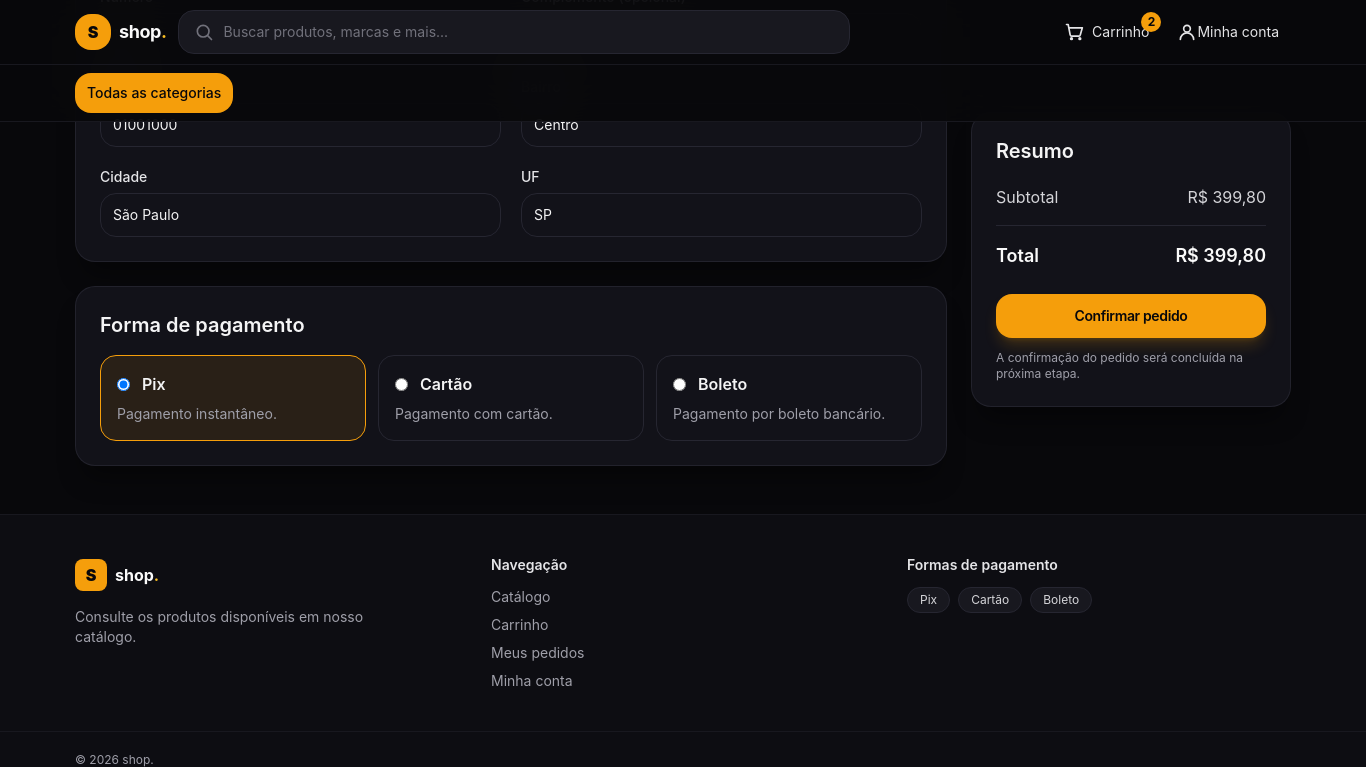
Scenario: TASK-115 checkout integration › posts strict confirmed contract once and applies exact 201 effects
(page scrolled)
Step 1. Click the radio button labelled "Pix" → (124,384), box [117,378,130,390]
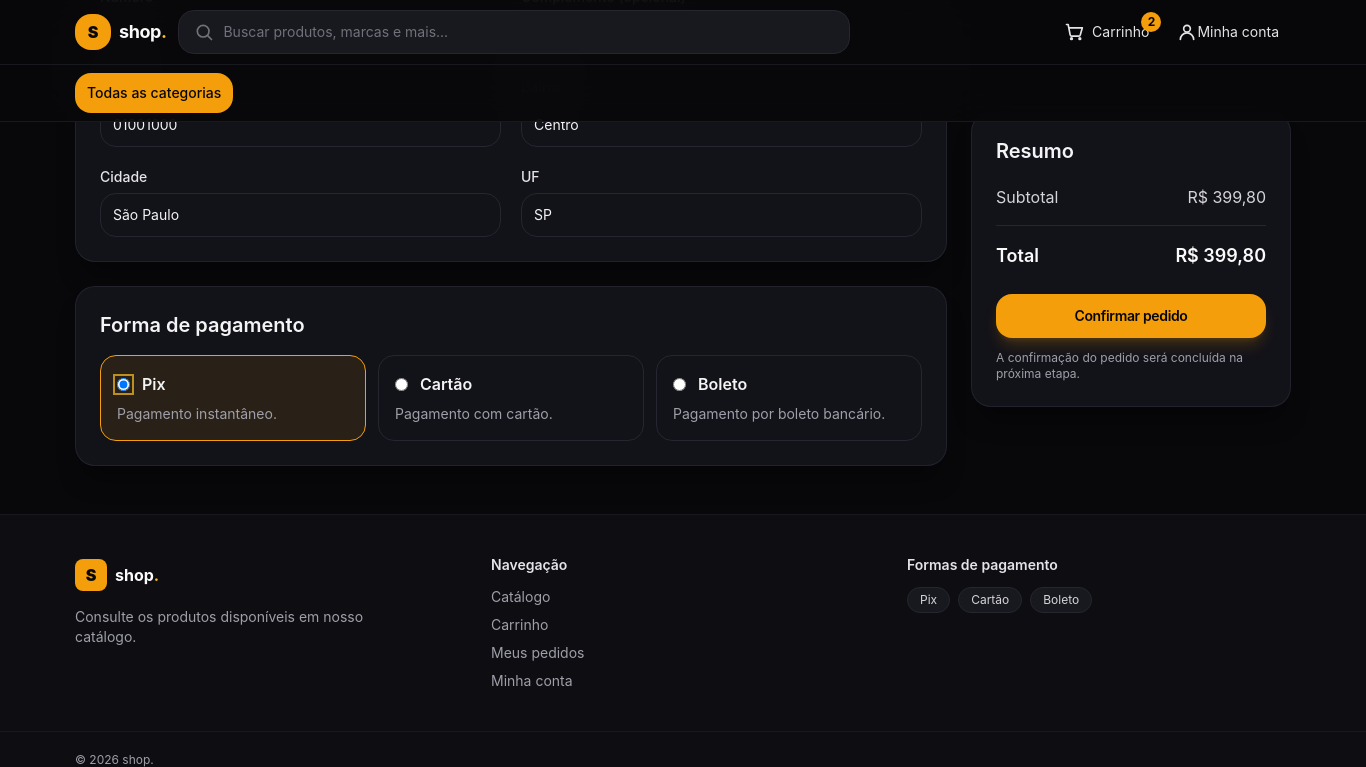
Step 2. Double-click the button "Confirmar pedido" → (1131,316), box [996,294,1266,338]
(page scrolled)
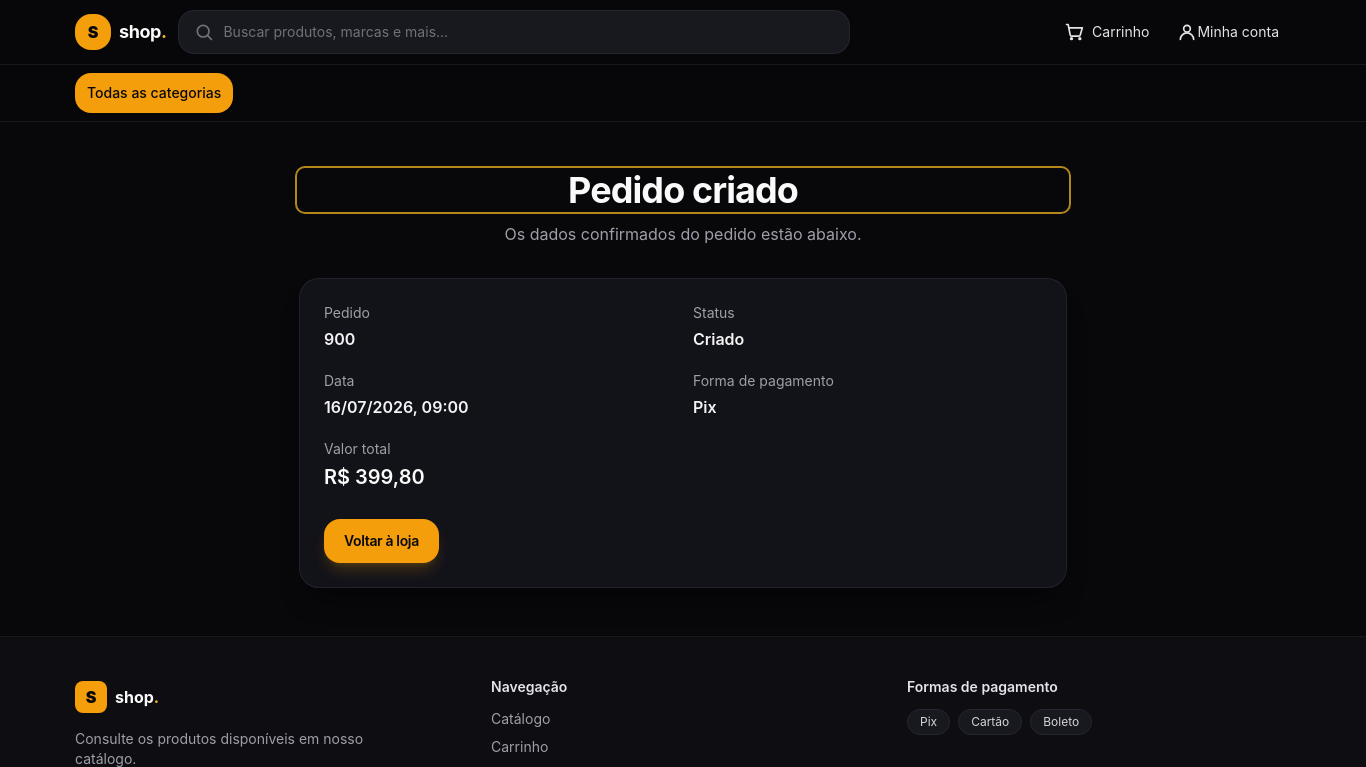
Expected: the heading "Pedido criado" is shown, [568,168,798,212]
